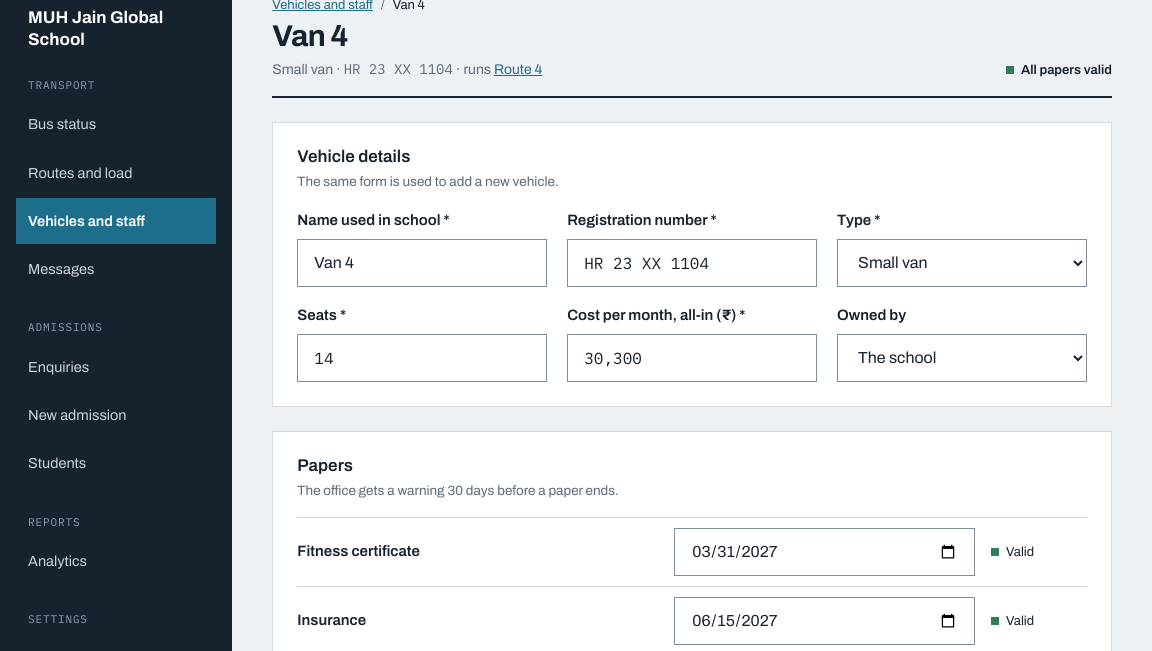
Scenario: One vehicle: details and papers › shows the server message under the field
Expected: the heading "Van 4" is shown, [272,20,348,52]
Replace the text in the field labelled "Seats *" with "0". click: (422, 358)
box: [297,334,547,382]
(page scrolled)
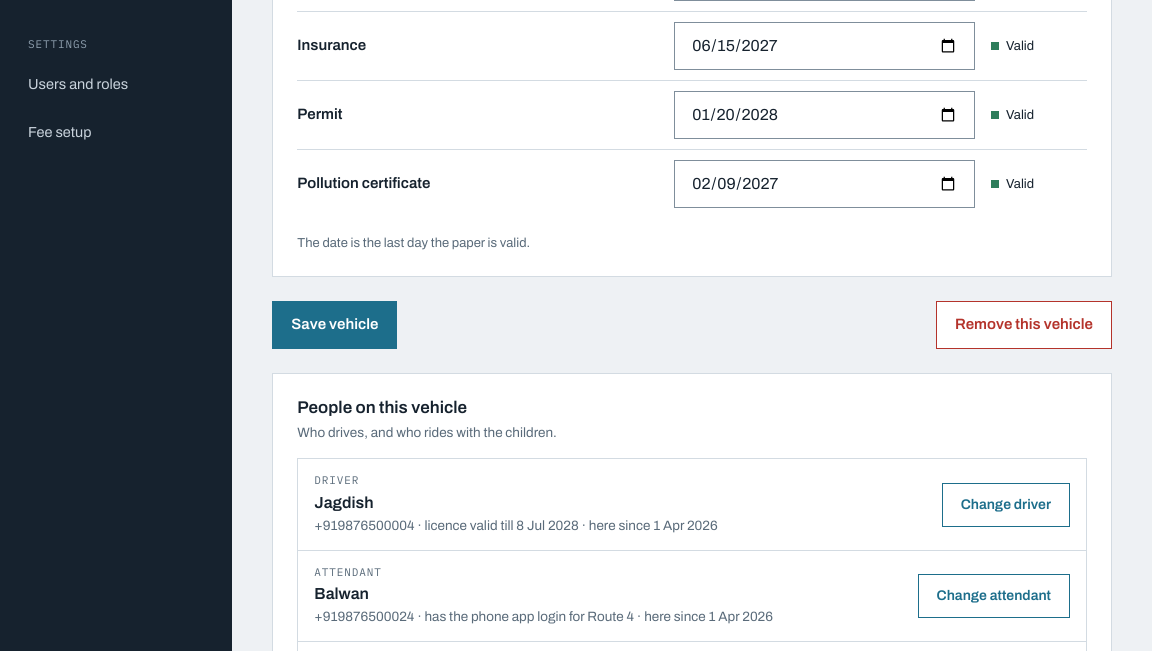
Click the button "Save vehicle". click: (335, 325)
box: [272,301,397,349]
(page scrolled)
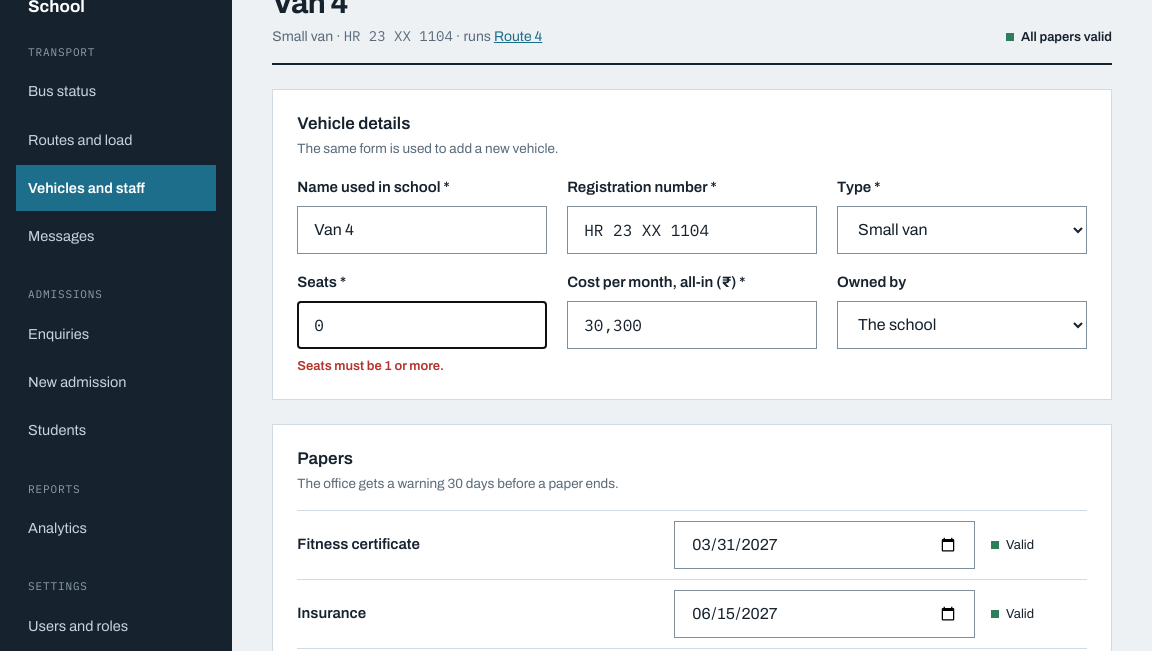
Now the text "Seats must be 1 or more." is shown, box [297,359,444,373]
